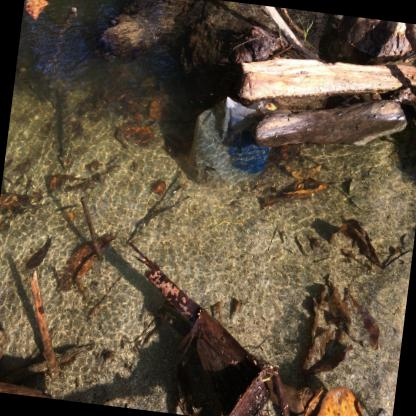Plastic: (185, 96, 271, 185)
